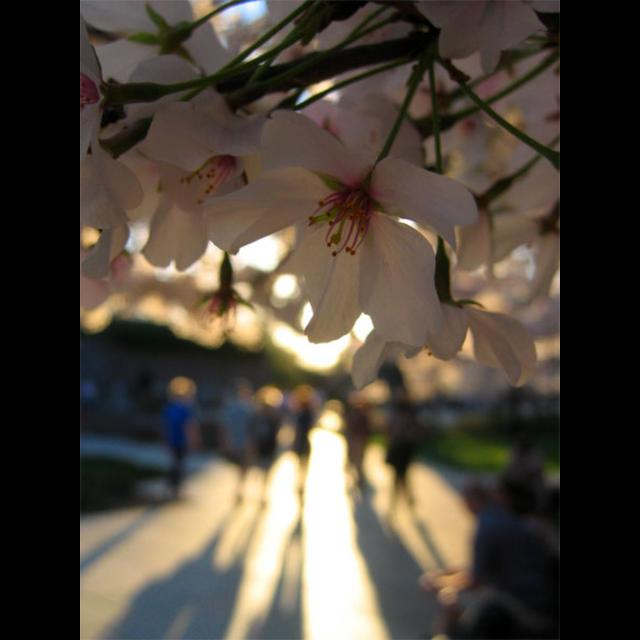Flower: (80, 0, 558, 390)
